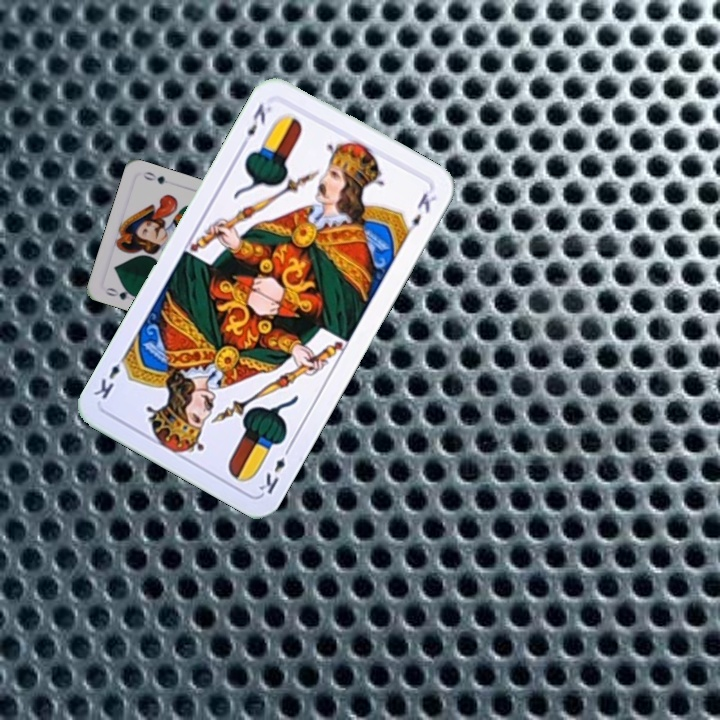EK: (255, 441, 294, 497), (237, 99, 275, 150)
GO: (102, 284, 141, 303)
